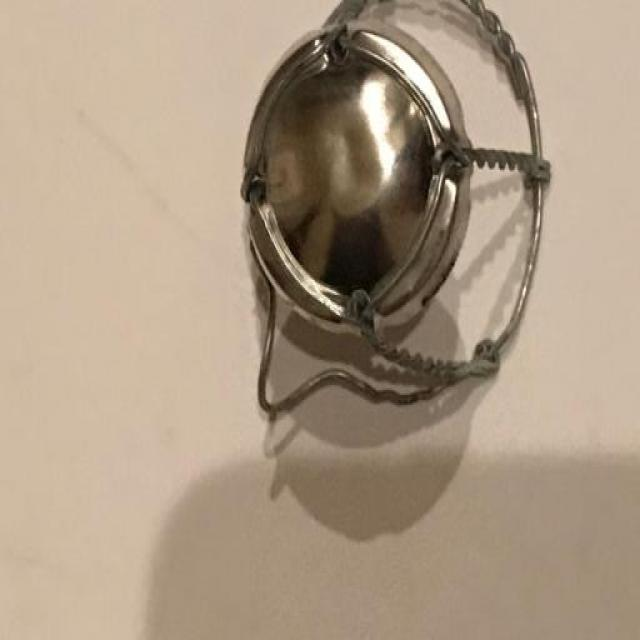metel: (232, 1, 562, 453)
